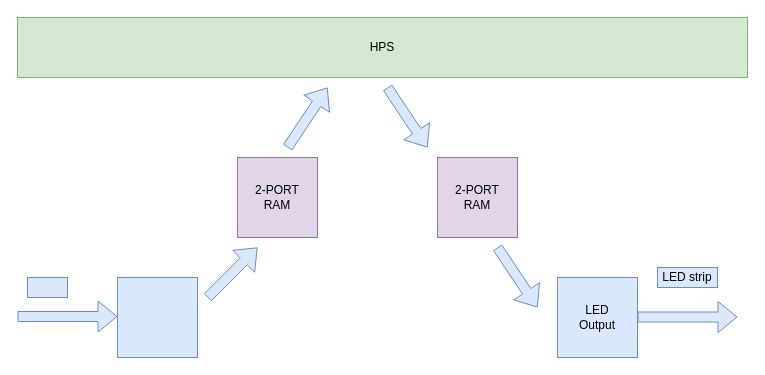
The diagram is 765 pixels wide and 375 high, and some of its shapes have lost their labels. Here are the shapes that lost their labels. From the top down, the centre of each, then its label:
At point (47, 287): "VGA".
At point (157, 317): "ADC".
